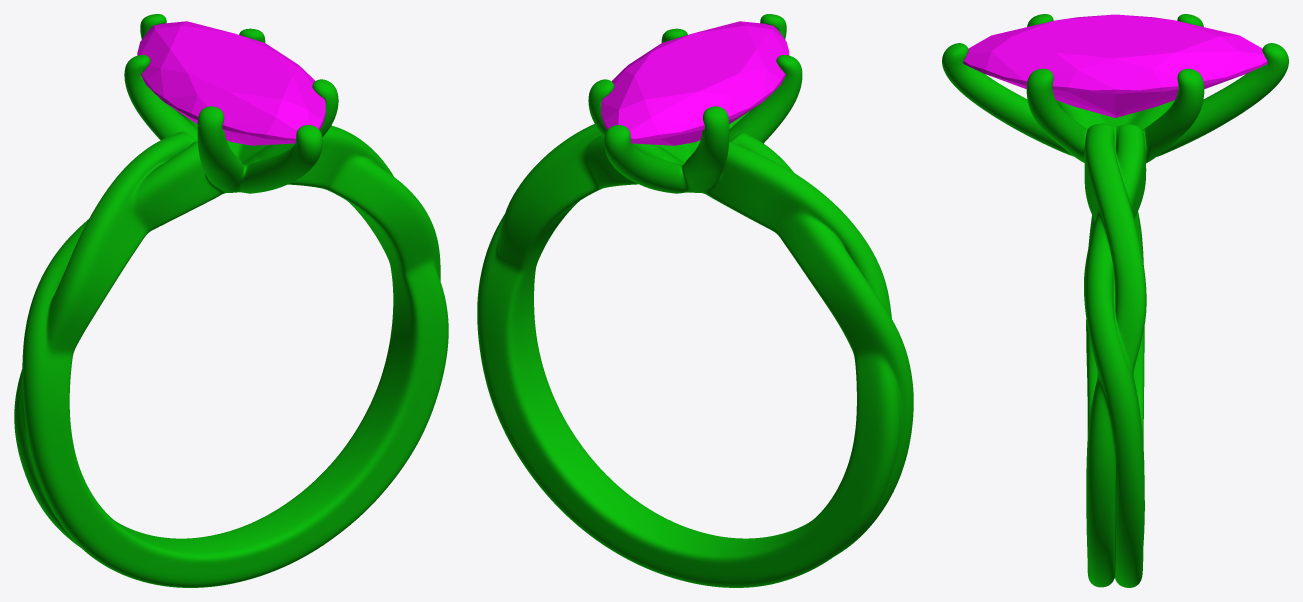
Rendered from BE1M56D_MQ_200ct_RENDER.glb.
3 renders of one model, left to right at view 1: azimuth 30°, elevation 25°; view 2: azimuth 150°, elevation 25°; view 3: azimuth 270°, elevation 25°, orthographic. The views are drawn at different scales.
Parts seen in each view (by area): view 1: Metal 01, CS_Diamond_Marquise; view 2: Metal 01, CS_Diamond_Marquise; view 3: Metal 01, CS_Diamond_Marquise.
Boxes of the visible parts, x1,y1,x2,y2 form: Metal 01: (14,14,448,587); CS_Diamond_Marquise: (137,21,325,145); Metal 01: (477,14,913,587); CS_Diamond_Marquise: (601,21,789,145); Metal 01: (942,14,1288,587); CS_Diamond_Marquise: (963,14,1267,117).
Size of the model in its own units: 20.33 by 23.63 by 14.1.
